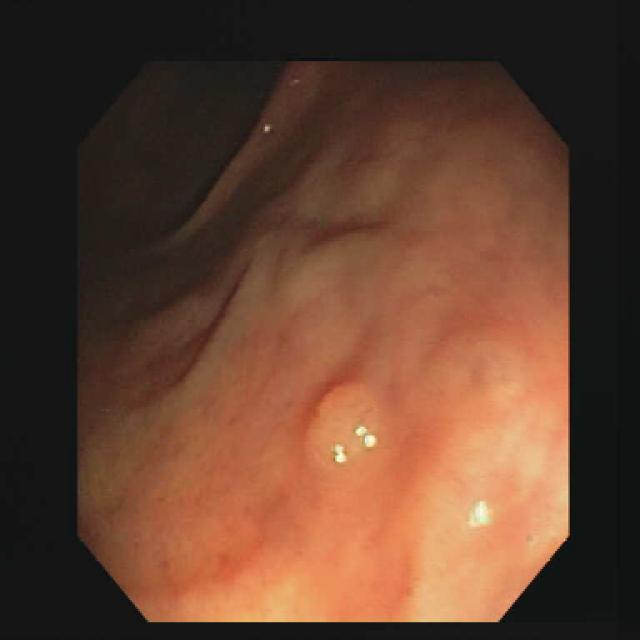tumor: (307, 382, 393, 467)
